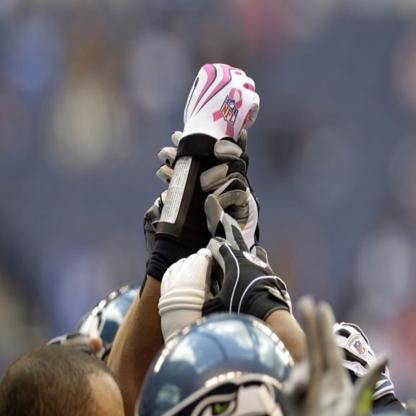Helmet: (133, 312, 296, 415)
